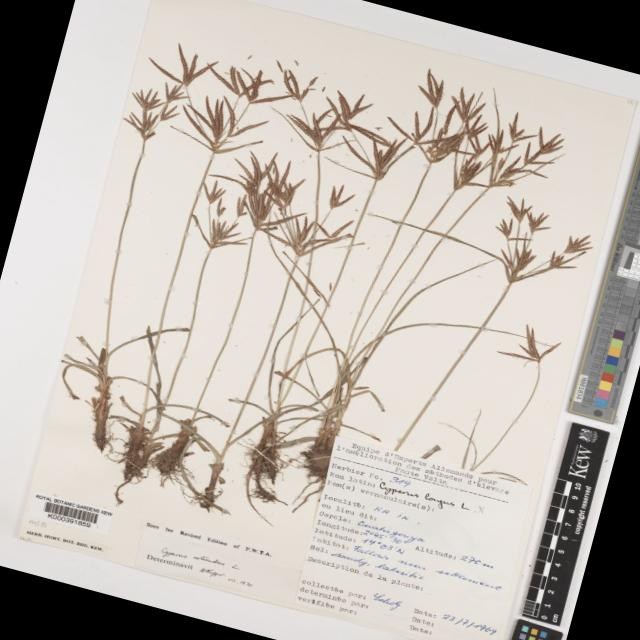cyperus: (176, 144, 370, 281), (386, 65, 557, 206), (120, 29, 277, 164), (254, 48, 415, 171), (471, 187, 599, 299), (502, 320, 570, 382)
